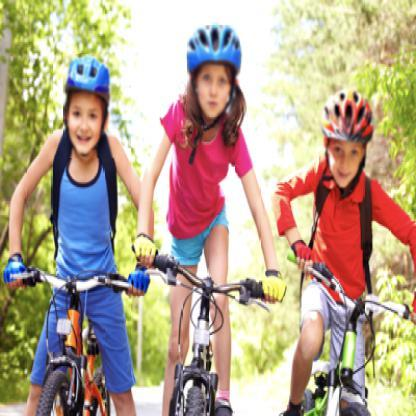With Helmet: (319, 86, 379, 190), (64, 54, 116, 159), (187, 25, 241, 117)
